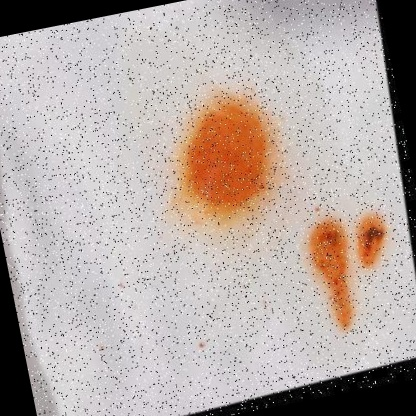kimchi: (158, 87, 288, 225), (301, 211, 368, 337), (355, 208, 393, 262), (196, 336, 214, 355), (310, 198, 324, 215)
